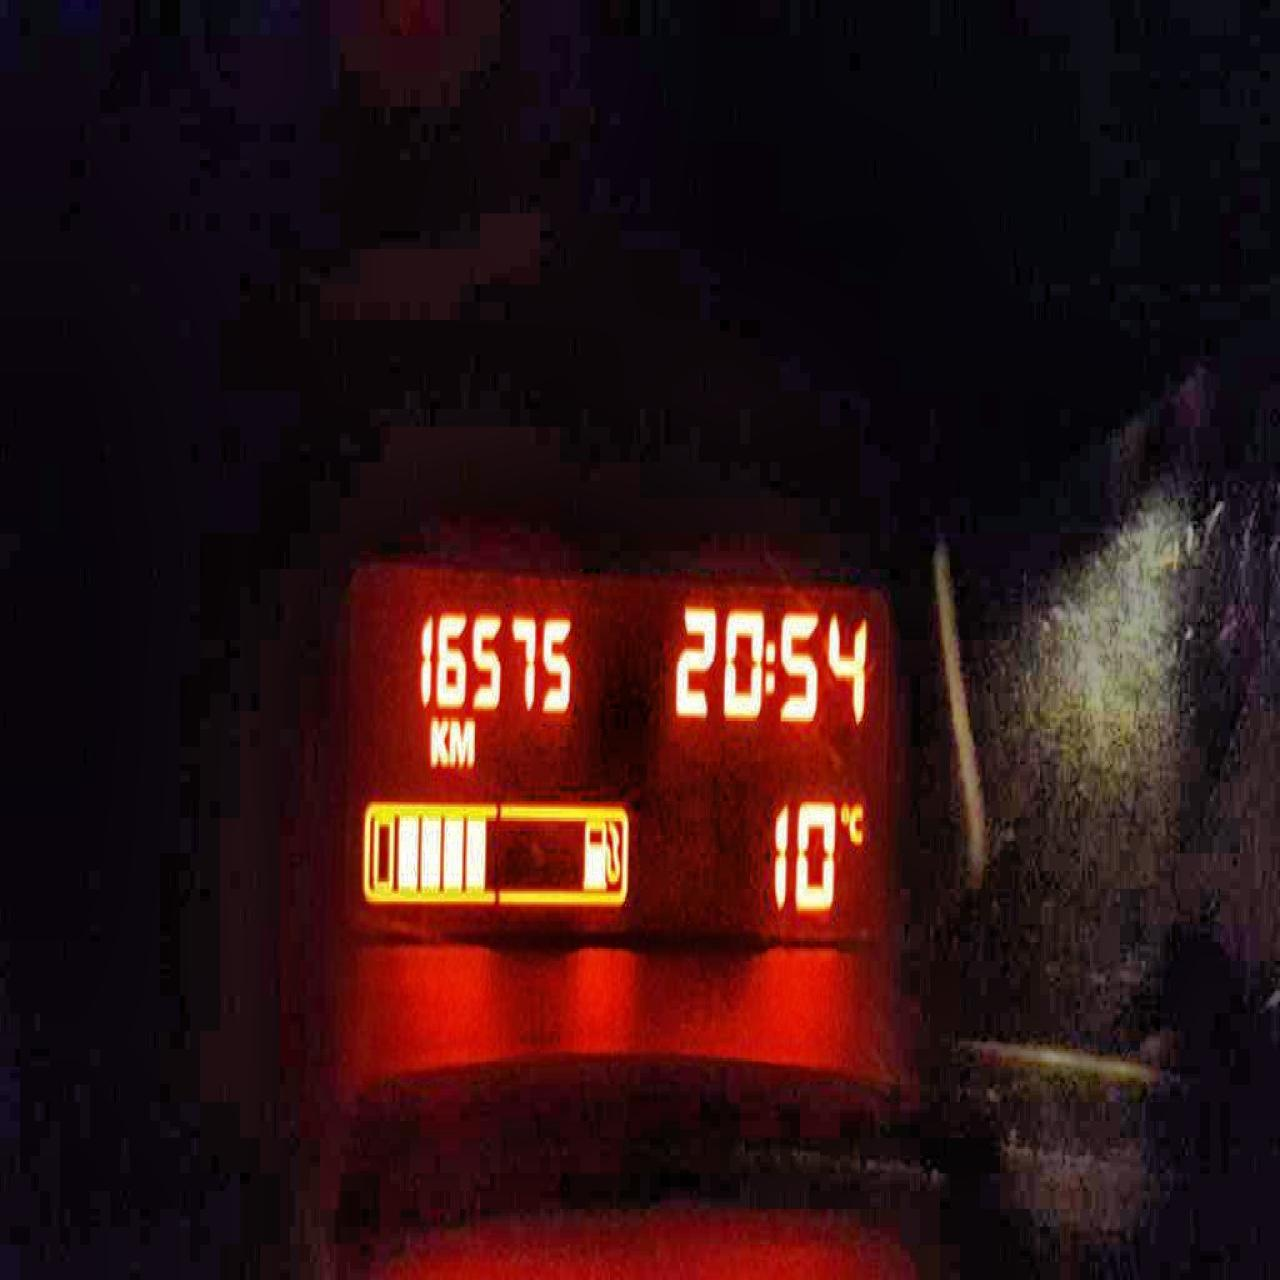0: (794, 798, 835, 913), (722, 607, 763, 720)
1: (771, 799, 788, 911), (418, 613, 433, 709)
2: (673, 605, 716, 717)
4: (826, 611, 866, 724)
5: (778, 611, 817, 722), (470, 613, 501, 712), (540, 615, 570, 714)
6: (435, 611, 467, 709)
7: (510, 613, 536, 714)
X: (448, 715, 475, 764), (429, 713, 448, 767), (764, 635, 776, 695), (847, 802, 863, 846)
odometer: (347, 549, 892, 947)
